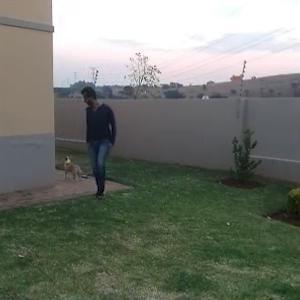follow: (79, 81, 116, 205)
